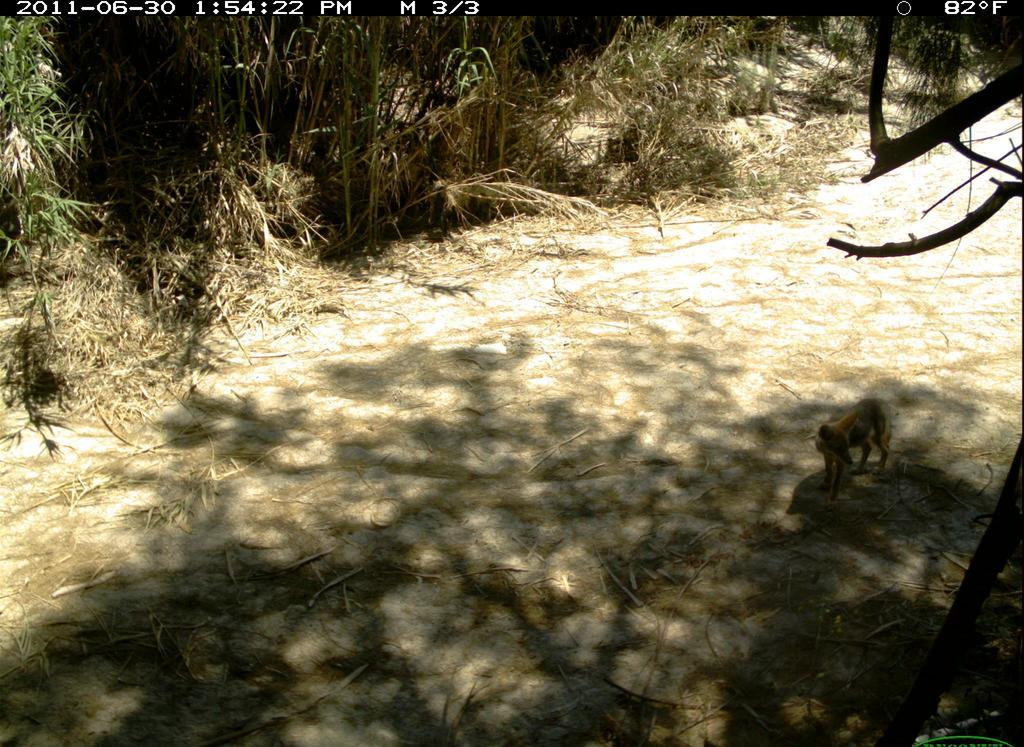coyote: (803, 388, 908, 498)
